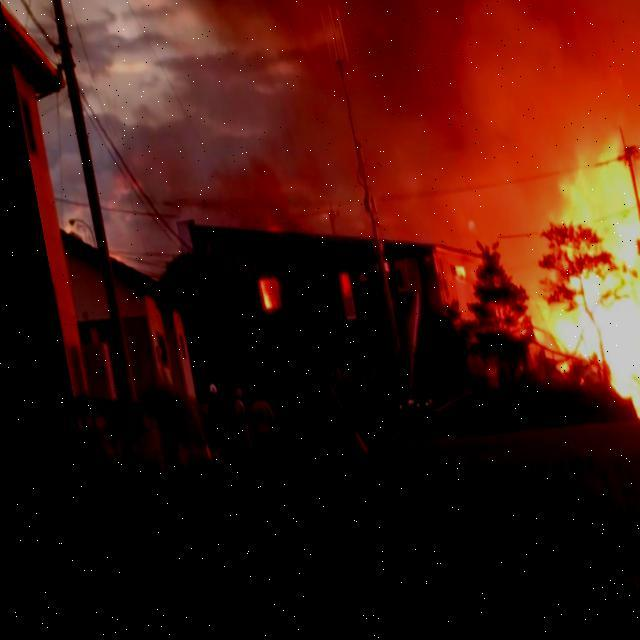Fire: (491, 158, 639, 429), (246, 279, 274, 315), (442, 268, 456, 287)
